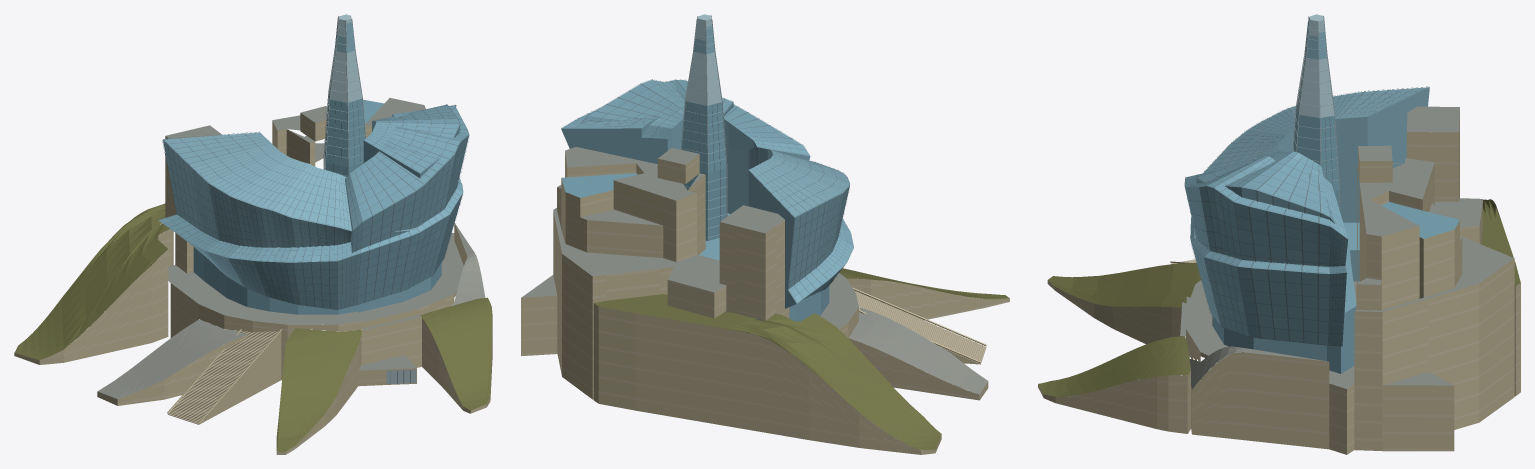
The model's file is canadian-museum-for-human-rights-near.glb.
3 renders of one model, left to right at view 1: azimuth 30°, elevation 25°; view 2: azimuth 150°, elevation 25°; view 3: azimuth 270°, elevation 25°, orthographic. The views are drawn at different scales.
Visible parts, largest first — view 1: canadian-museum-for-human-rights-0-glass, canadian-museum-for-human-rights-0-stone, canadian-museum-for-human-rights-0-grass, canadian-museum-for-human-rights-0-glassPale, canadian-museum-for-human-rights-0-roof, canadian-museum-for-human-rights-0-frame, canadian-museum-for-human-rights-0-stoneWarm, canadian-museum-for-human-rights-0-glassDeep, canadian-museum-for-human-rights-0-glow, canadian-museum-for-human-rights-0-towerClear; view 2: canadian-museum-for-human-rights-0-stone, canadian-museum-for-human-rights-0-roof, canadian-museum-for-human-rights-0-stoneWarm, canadian-museum-for-human-rights-0-glass, canadian-museum-for-human-rights-0-grass, canadian-museum-for-human-rights-0-glassPale, canadian-museum-for-human-rights-0-glassDeep, canadian-museum-for-human-rights-0-frame, canadian-museum-for-human-rights-0-towerClear, canadian-museum-for-human-rights-0-glow; view 3: canadian-museum-for-human-rights-0-stone, canadian-museum-for-human-rights-0-glass, canadian-museum-for-human-rights-0-roof, canadian-museum-for-human-rights-0-glassPale, canadian-museum-for-human-rights-0-stoneWarm, canadian-museum-for-human-rights-0-grass, canadian-museum-for-human-rights-0-frame, canadian-museum-for-human-rights-0-glassDeep, canadian-museum-for-human-rights-0-towerClear, canadian-museum-for-human-rights-0-glow.
Part boxes in pixels (x1,y1,x2,y2): canadian-museum-for-human-rights-0-glass: (164, 104, 468, 314); canadian-museum-for-human-rights-0-stone: (14, 113, 492, 453); canadian-museum-for-human-rights-0-grass: (14, 203, 492, 451); canadian-museum-for-human-rights-0-glassPale: (158, 22, 460, 307); canadian-museum-for-human-rights-0-roof: (97, 98, 485, 399); canadian-museum-for-human-rights-0-frame: (158, 96, 469, 383); canadian-museum-for-human-rights-0-stoneWarm: (51, 117, 492, 454); canadian-museum-for-human-rights-0-glassDeep: (324, 93, 383, 176); canadian-museum-for-human-rights-0-glow: (323, 14, 416, 384); canadian-museum-for-human-rights-0-towerClear: (329, 14, 361, 102); canadian-museum-for-human-rights-0-stone: (521, 153, 1009, 454); canadian-museum-for-human-rights-0-roof: (521, 147, 987, 394); canadian-museum-for-human-rights-0-stoneWarm: (521, 158, 1009, 447); canadian-museum-for-human-rights-0-glass: (561, 79, 853, 321); canadian-museum-for-human-rights-0-grass: (594, 268, 1009, 450); canadian-museum-for-human-rights-0-glassPale: (565, 26, 849, 303); canadian-museum-for-human-rights-0-glassDeep: (561, 101, 726, 240); canadian-museum-for-human-rights-0-frame: (562, 79, 853, 302); canadian-museum-for-human-rights-0-towerClear: (685, 14, 721, 105); canadian-museum-for-human-rights-0-glow: (681, 15, 727, 240); canadian-museum-for-human-rights-0-stone: (1038, 110, 1520, 454); canadian-museum-for-human-rights-0-glass: (1184, 151, 1359, 373); canadian-museum-for-human-rights-0-roof: (1180, 106, 1514, 389); canadian-museum-for-human-rights-0-glassPale: (1191, 20, 1429, 344); canadian-museum-for-human-rights-0-stoneWarm: (1047, 118, 1520, 451); canadian-museum-for-human-rights-0-grass: (1038, 199, 1520, 396); canadian-museum-for-human-rights-0-frame: (1184, 86, 1428, 346); canadian-museum-for-human-rights-0-glassDeep: (1293, 106, 1459, 238); canadian-museum-for-human-rights-0-towerClear: (1296, 14, 1334, 117); canadian-museum-for-human-rights-0-glow: (1292, 14, 1339, 210).
Size of the model in its own units: 135 by 100 by 120.
